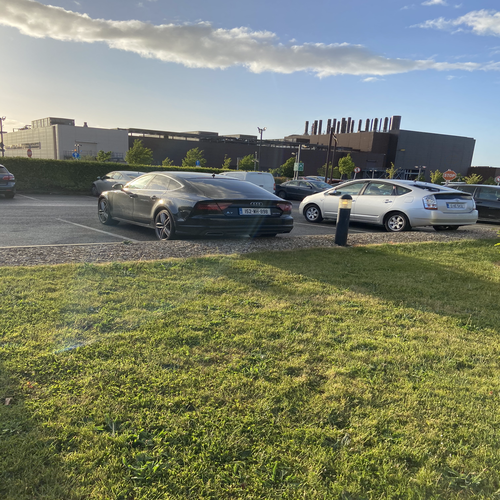Car: (96, 169, 295, 239), (304, 180, 483, 229)
